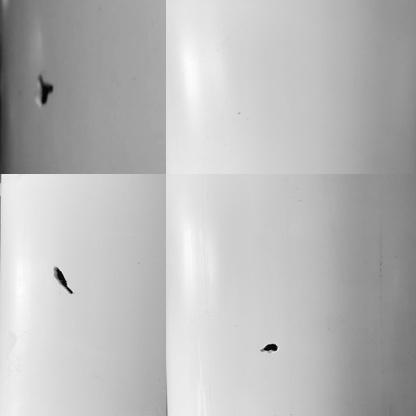kongdong: (33, 74, 65, 112), (52, 263, 76, 296), (260, 339, 283, 356)
